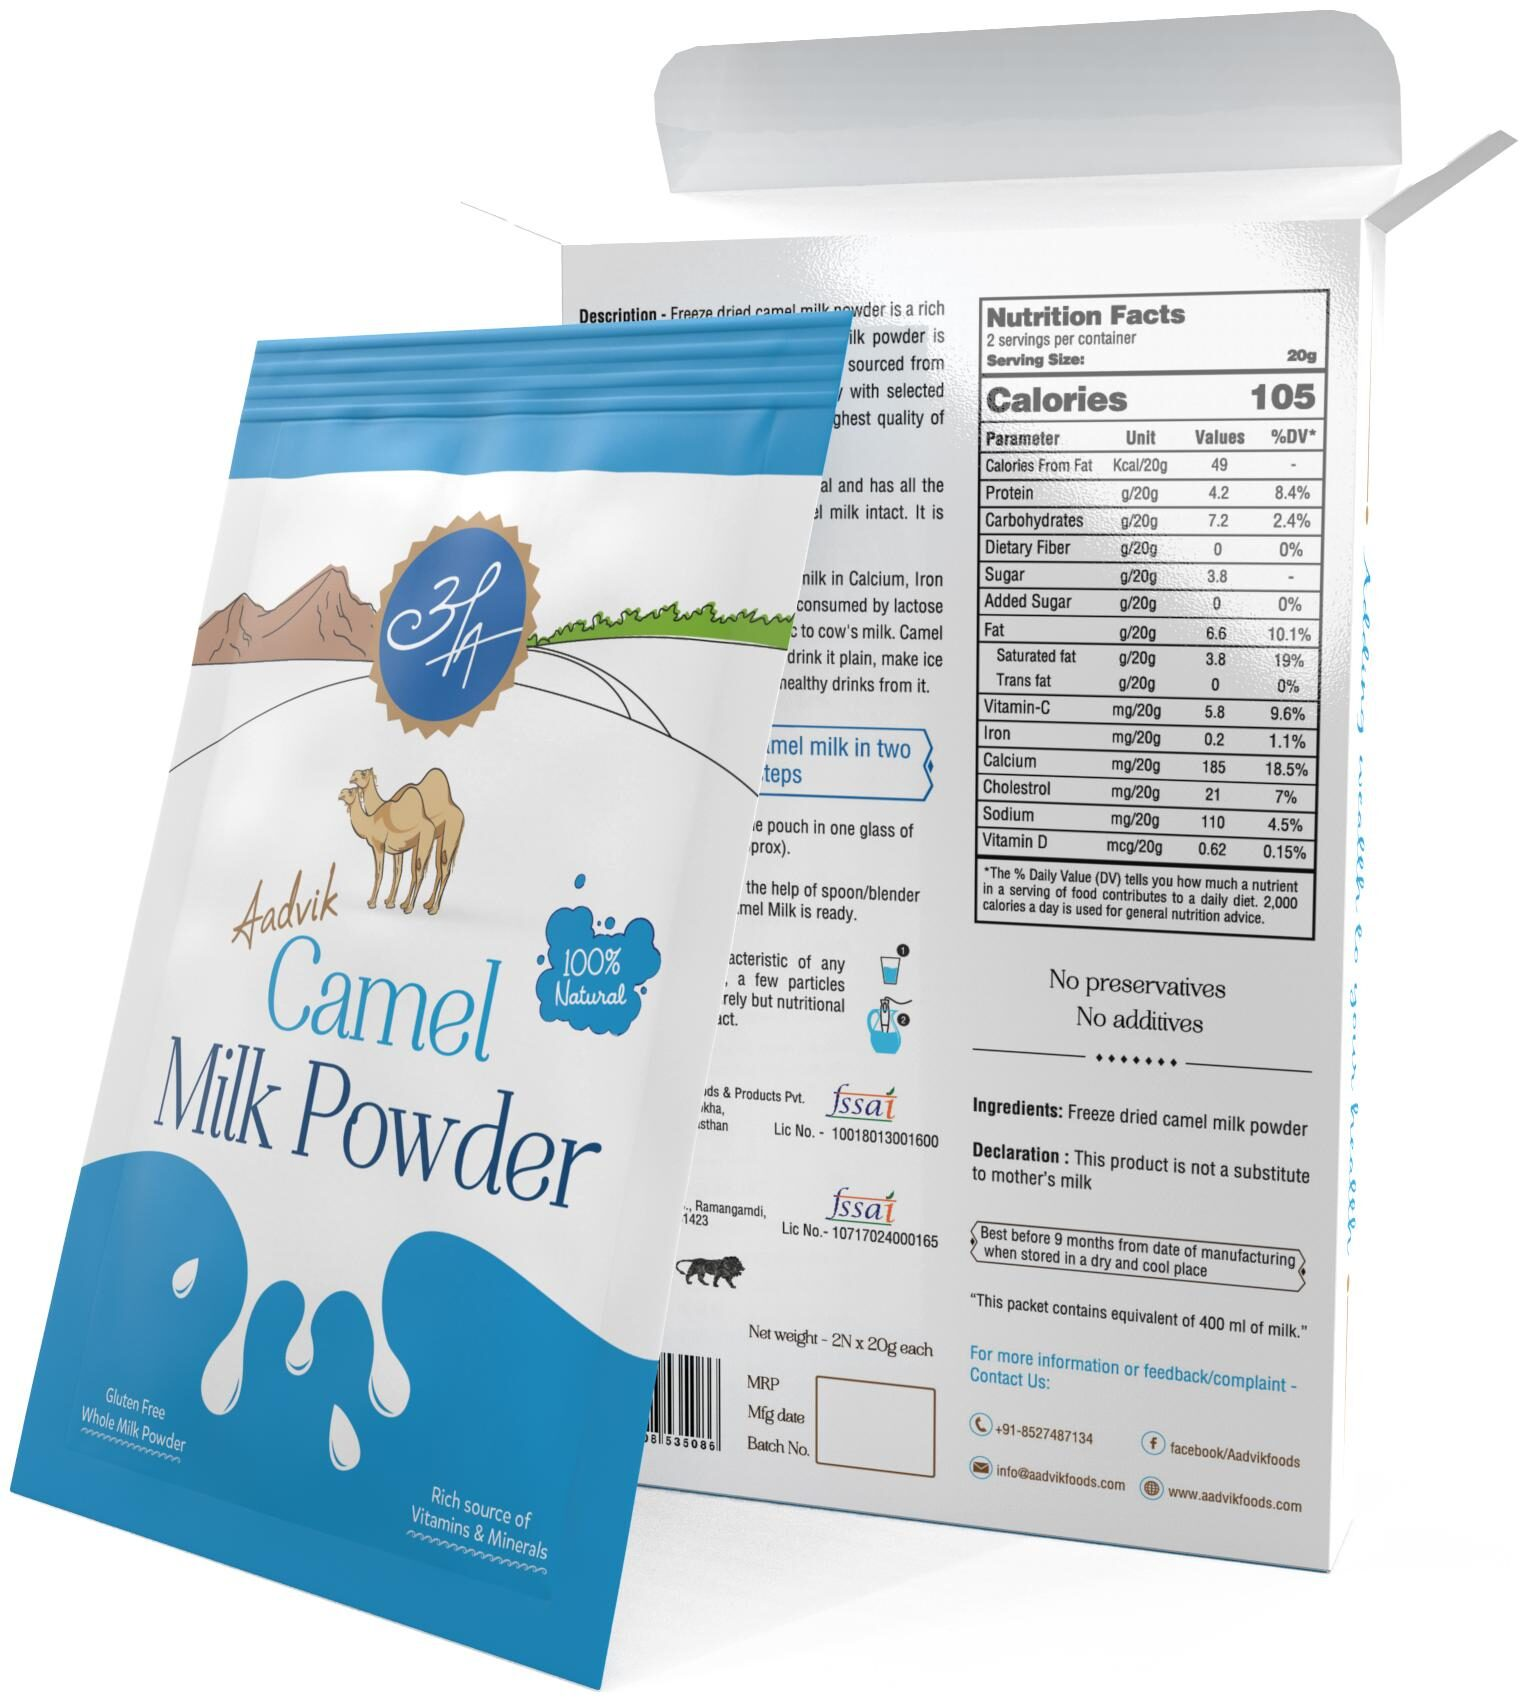fssai: (824, 1184, 898, 1226), (826, 1083, 898, 1122)
